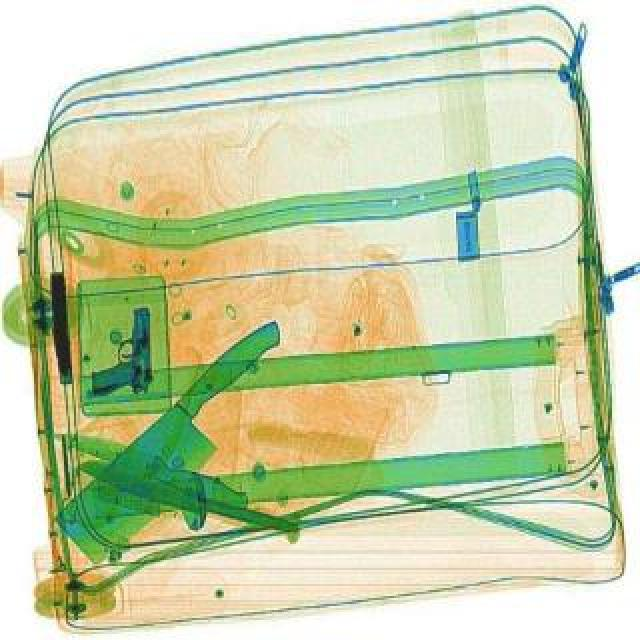gun: (84, 304, 156, 396), (46, 272, 72, 380)
knife: (46, 312, 318, 564), (40, 412, 252, 514), (74, 450, 294, 538)
